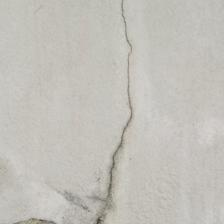Crack: (50, 1, 93, 217)
